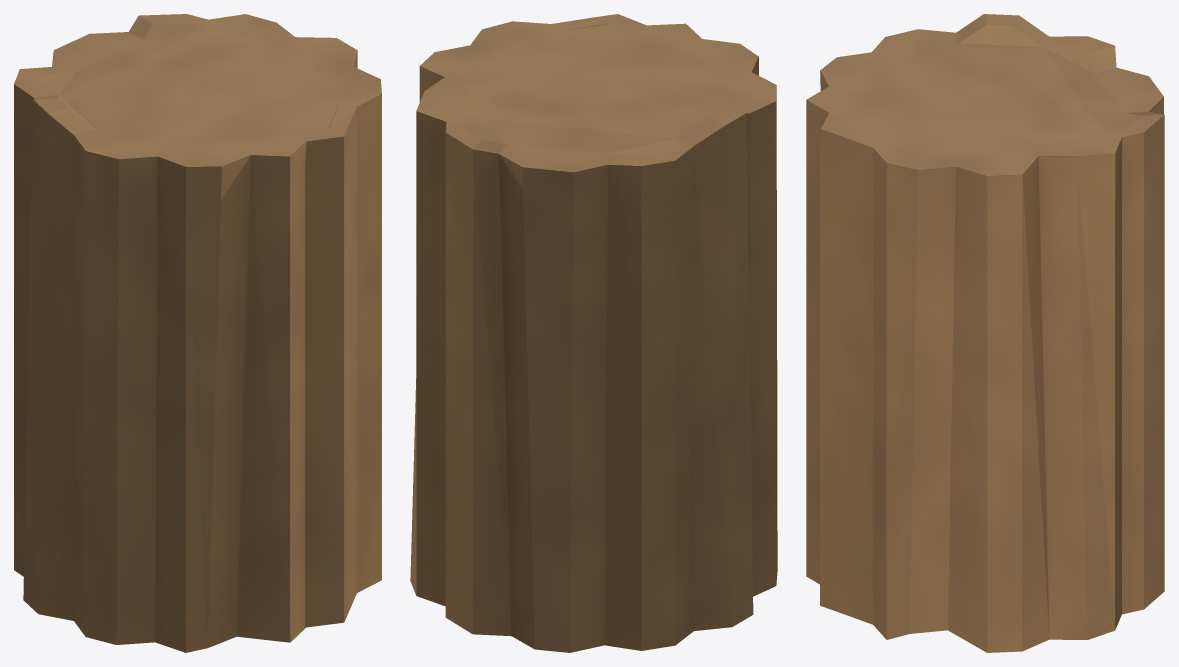
Rendered from ancientPillar.glb.
The picture shows the model from 3 angles, left to right: view 1: azimuth 30°, elevation 25°; view 2: azimuth 150°, elevation 25°; view 3: azimuth 270°, elevation 25°; orthographic projection.
Visible parts, largest first — view 1: Cylinder; view 2: Cylinder; view 3: Cylinder.
Boxes of the visible parts, x1,y1,x2,y2 form: Cylinder: (14, 14, 381, 652); Cylinder: (410, 14, 777, 652); Cylinder: (806, 14, 1164, 652).
Bounding box in the file's own units: 2.24 × 3.35 × 2.22.
1 material, 1 textured.
